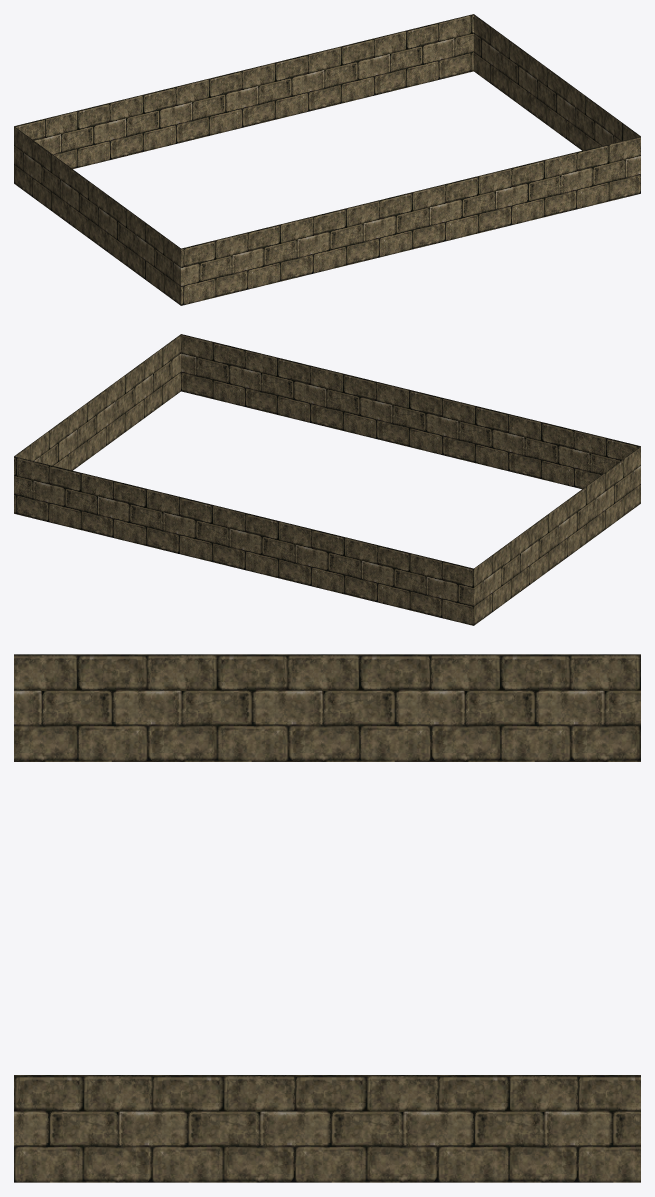
File: OVERHILL_A_01_LINE461.fbx
3 views of the same model, one above another, from view 1: azimuth 30°, elevation 25°; view 2: azimuth 150°, elevation 25°; view 3: azimuth 270°, elevation 25° (orthographic). The views are drawn at different scales.
Parts seen in each view (by area): view 1: OVERHILL_A_01_LINE461; view 2: OVERHILL_A_01_LINE461; view 3: OVERHILL_A_01_LINE461.
Part boxes in pixels (bbox=[...]): OVERHILL_A_01_LINE461: bbox=[14, 14, 640, 305]; OVERHILL_A_01_LINE461: bbox=[14, 334, 640, 625]; OVERHILL_A_01_LINE461: bbox=[14, 654, 640, 1182].
Bounding box in the file's own units: 233927 × 27911 × 147276.
Materials: 1 (1 with a texture image).
